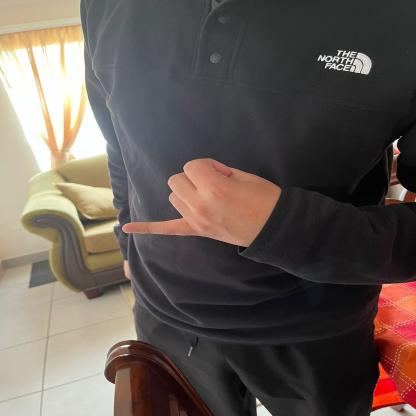J: (117, 155, 276, 255)
